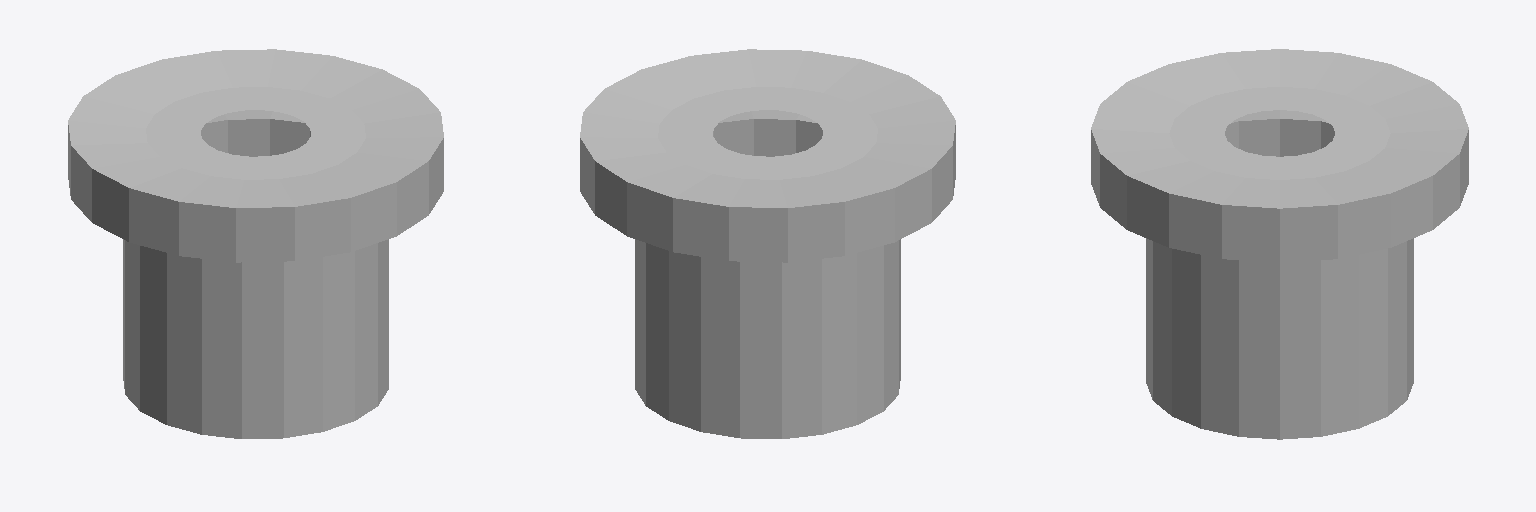
File: pipe.obj
3 renders of one model, left to right at view 1: azimuth 30°, elevation 25°; view 2: azimuth 150°, elevation 25°; view 3: azimuth 270°, elevation 25°, orthographic.
Parts seen in each view (by area): view 1: pPipe1; view 2: pPipe1; view 3: pPipe1.
Part boxes in pixels (left/top/right/bottom): pPipe1: left=68, top=49, right=443, bottom=438; pPipe1: left=580, top=49, right=955, bottom=438; pPipe1: left=1091, top=49, right=1468, bottom=439.
Size of the model in its own units: 2.83 by 2.1 by 2.83.